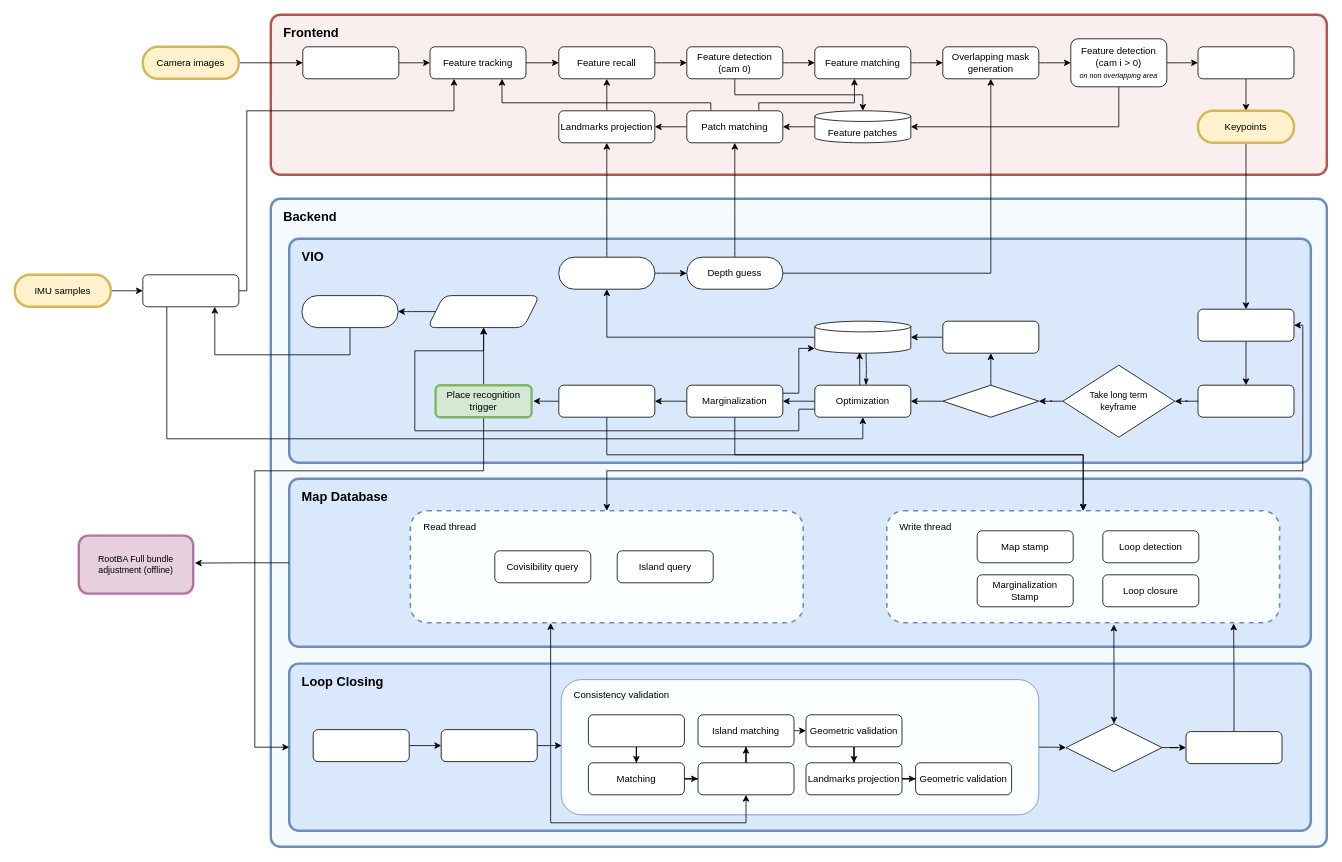
Image size: 1342x862. Some labels were removed from this diagram. Here are the shapes that lost their labels. From the top down, the centre of each, then its label:
At point 350,62: "Image pyramid".
At point 1245,62: "Filter points with epipolar constraint".
At point 190,290: "IMU integration".
At point 606,272: "Landmarks".
At point 349,311: "Latest pose estimate".
At point 483,311: "Sliding window poses estimate".
At point 1245,324: "Add covisible window".
At point 862,336: "Landmark database".
At point 990,336: "Triangulation of new landmarks".
At point 606,400: "Save map".
At point 990,400: "Take keyframe".
At point 1245,400: "Add observations for existing landmarks".
At point 360,745: "HashBoW indexing".
At point 488,745: "HashBoW query".
At point 636,730: "Covisibility check".
At point 1113,747: "Send loop detection".
At point 1233,747: "Pose graph optimization".
At point 745,778: "Build island".
